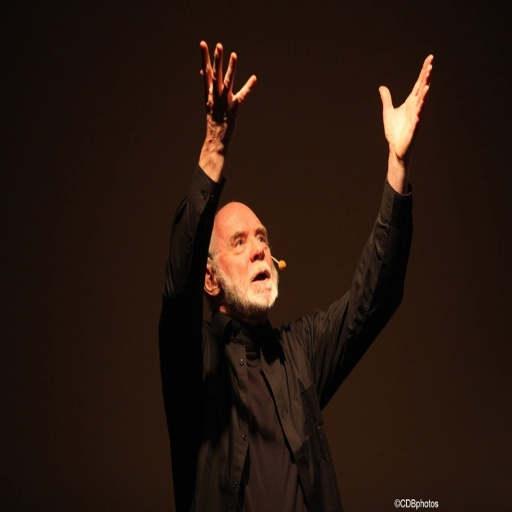hand: (372, 51, 431, 190), (198, 41, 256, 149)
